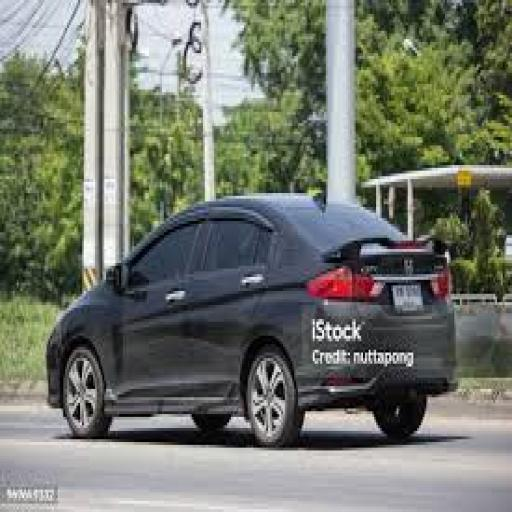License: (385, 282, 435, 317)
